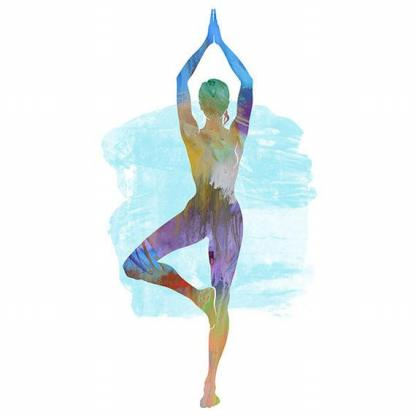tree: (115, 3, 274, 414)
